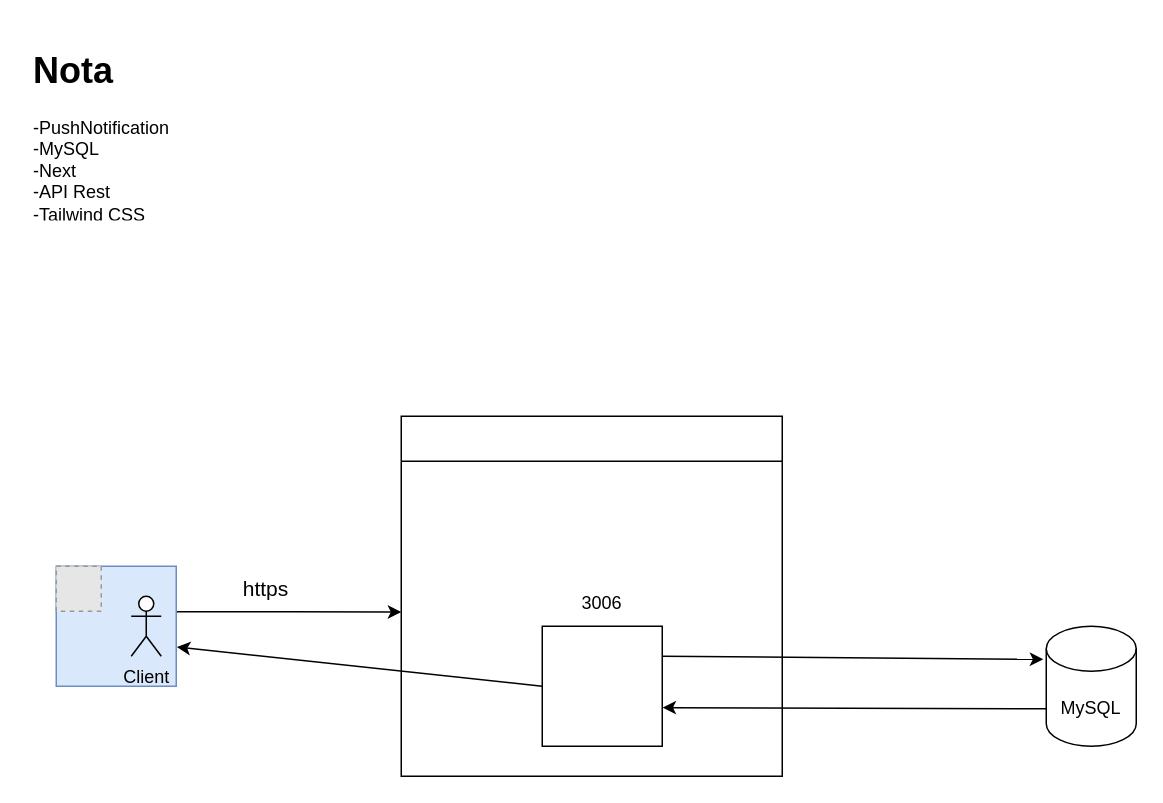
This 1163x803 diagram has some shape labels left out. Grey dashed boxes stand in for pictures. The shapes that lost their labels are listed below. From the top down, each one's box as (x1, y1, x2, y2) in pixels, then its label:
(400, 415, 782, 776): Server 124.70.0
(541, 625, 662, 746): API Rest
